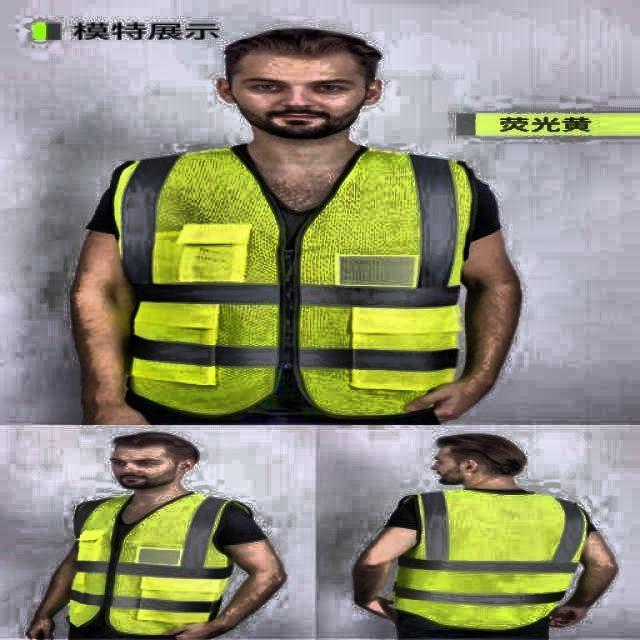safety_jacket: (112, 146, 480, 409), (373, 491, 583, 629), (68, 498, 234, 638)
